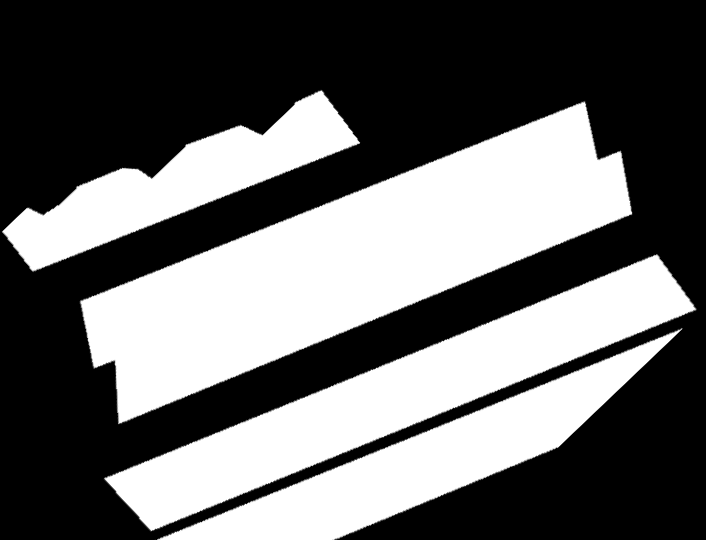parkingspot: (80, 102, 632, 424), (104, 254, 696, 531), (157, 328, 682, 540), (2, 90, 360, 271)
